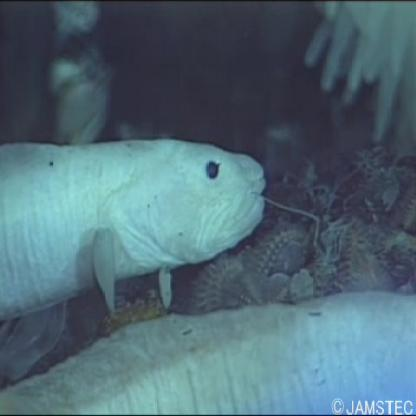Bio: (1, 132, 271, 327)
